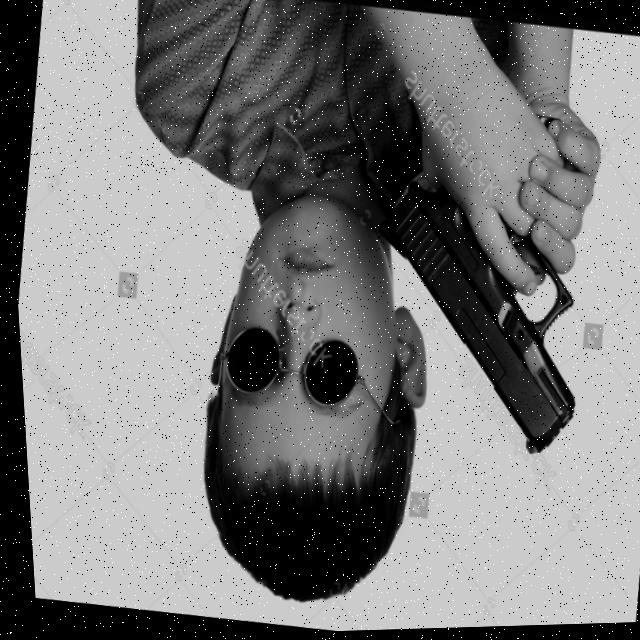pistol: (343, 170, 603, 468)
